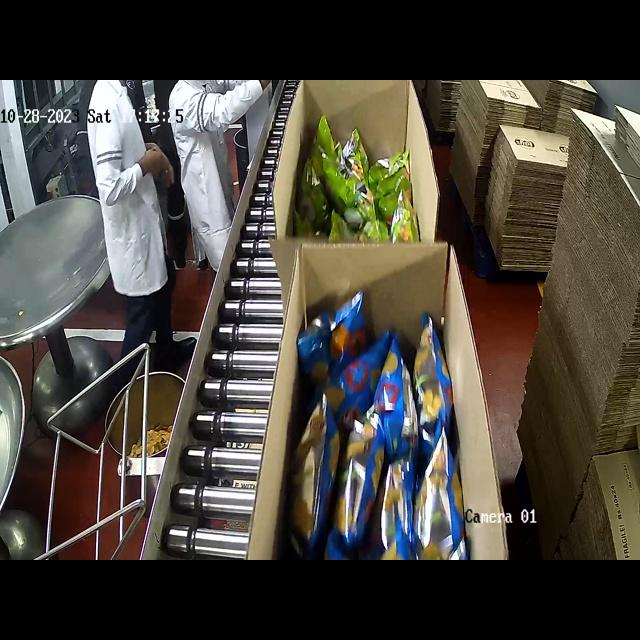paprika: (305, 292, 467, 560)
yogurt: (312, 113, 423, 254)
